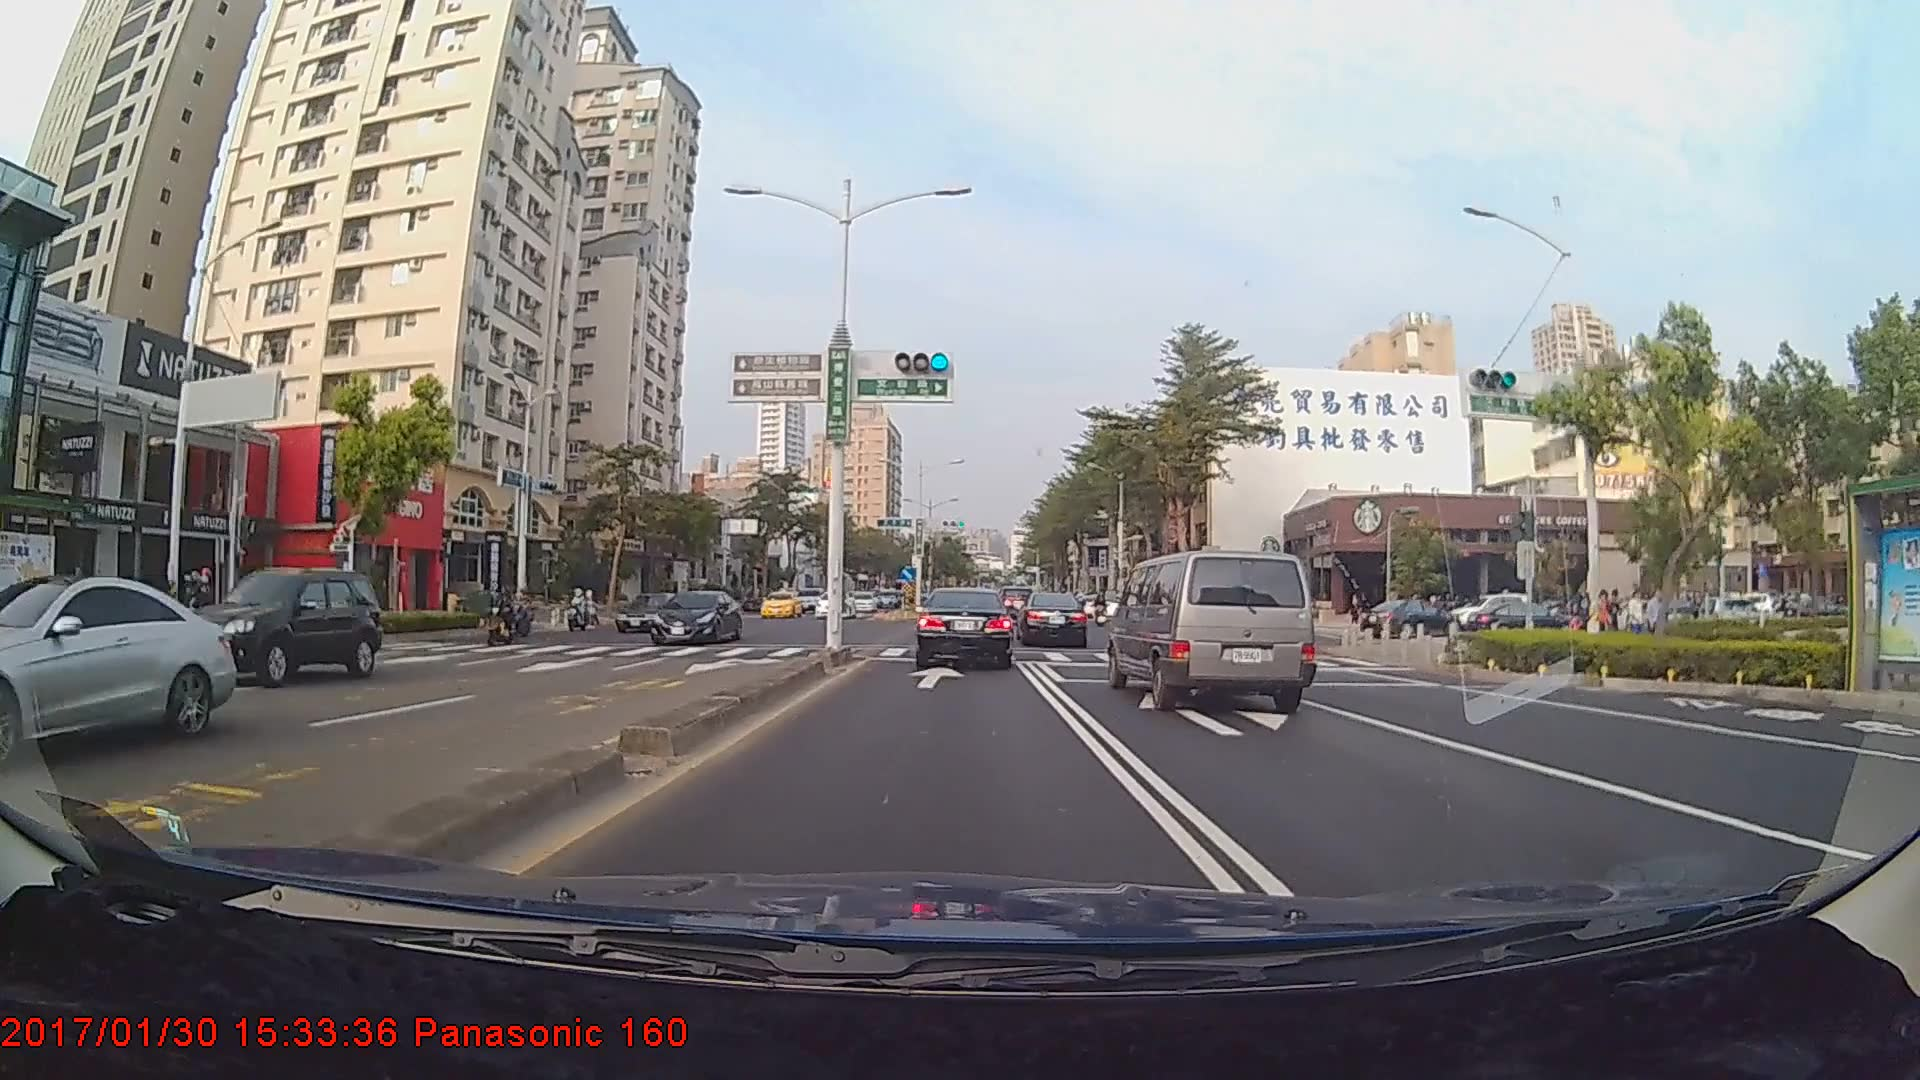pedestrian: (1648, 585, 1668, 649), (1627, 586, 1647, 645)
rider: (162, 559, 227, 645), (485, 580, 528, 651)
vehicle: (0, 571, 238, 774), (1107, 546, 1319, 713), (174, 567, 385, 687), (914, 586, 1014, 670), (647, 590, 743, 648), (1360, 597, 1456, 643), (1016, 592, 1088, 648), (613, 589, 689, 630), (811, 587, 857, 619), (758, 587, 803, 616), (848, 589, 877, 612)
